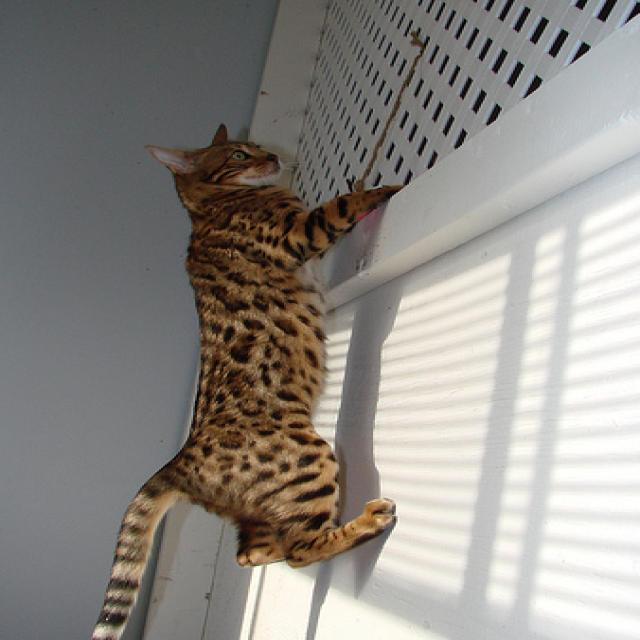Bengal: (66, 123, 412, 640)
